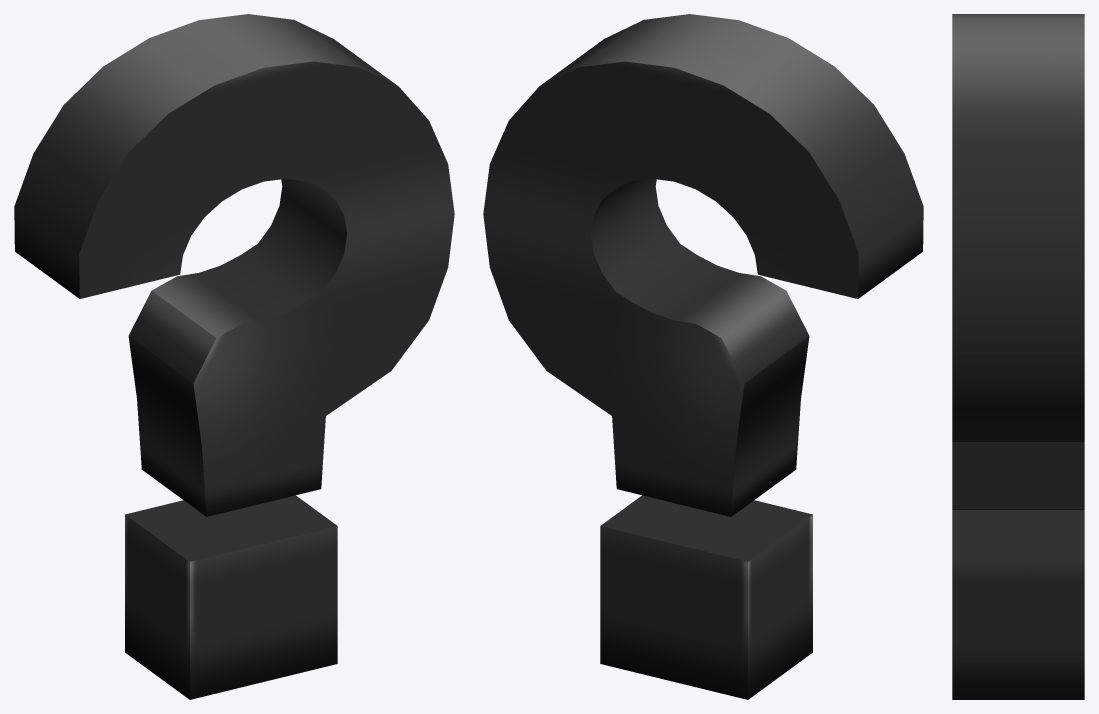
Rendered from quest_fbx.FBX.
3 views of the same model, side by side, from view 1: azimuth 30°, elevation 25°; view 2: azimuth 150°, elevation 25°; view 3: azimuth 270°, elevation 25° (orthographic).
Visible parts, largest first — view 1: Cylinder002; view 2: Cylinder002; view 3: Cylinder002.
Boxes of the visible parts, bbox=[...] form: Cylinder002: bbox=[14, 14, 454, 699]; Cylinder002: bbox=[483, 14, 923, 699]; Cylinder002: bbox=[952, 14, 1084, 699].
Size of the model in its own units: 50.52 by 78.97 by 15.13.
Materials: 1 (1 with a texture image).
